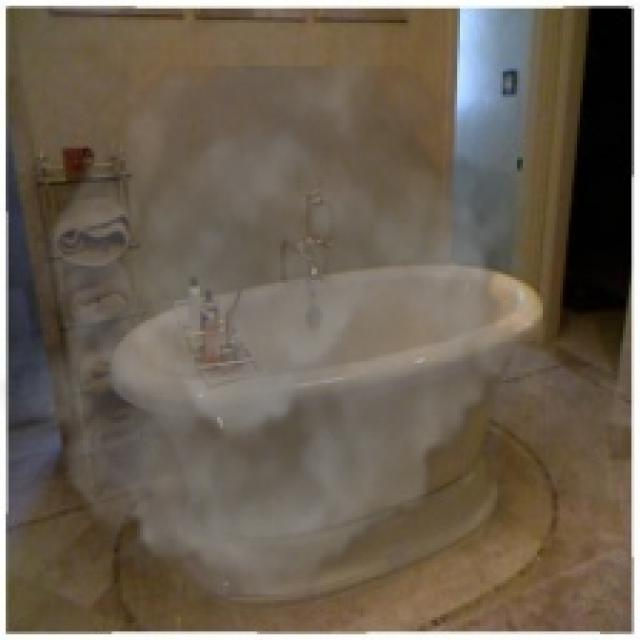smoke: (0, 66, 543, 597)
